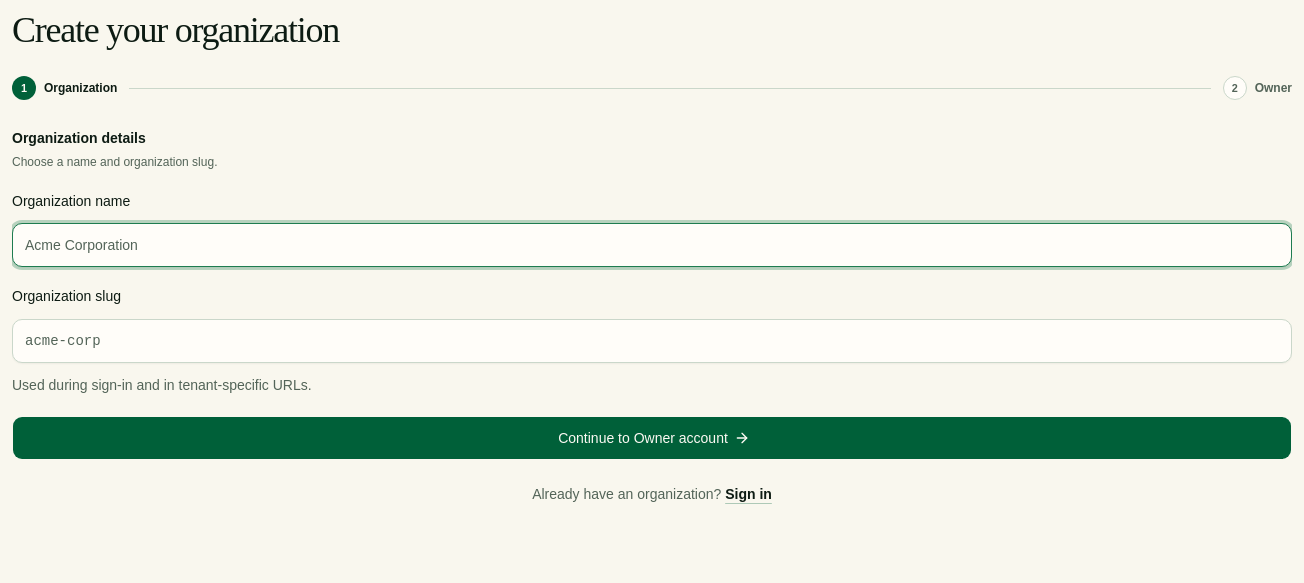
Scenario: RegisterPage › shows email verification instructions after registration
Type "Alpha Labs" into the field labelled "Organization name" at [652, 245], box [12,223,1292,267]
Type "alpha-labs" into the field labelled "Organization slug" at [652, 340], box [12,318,1292,362]
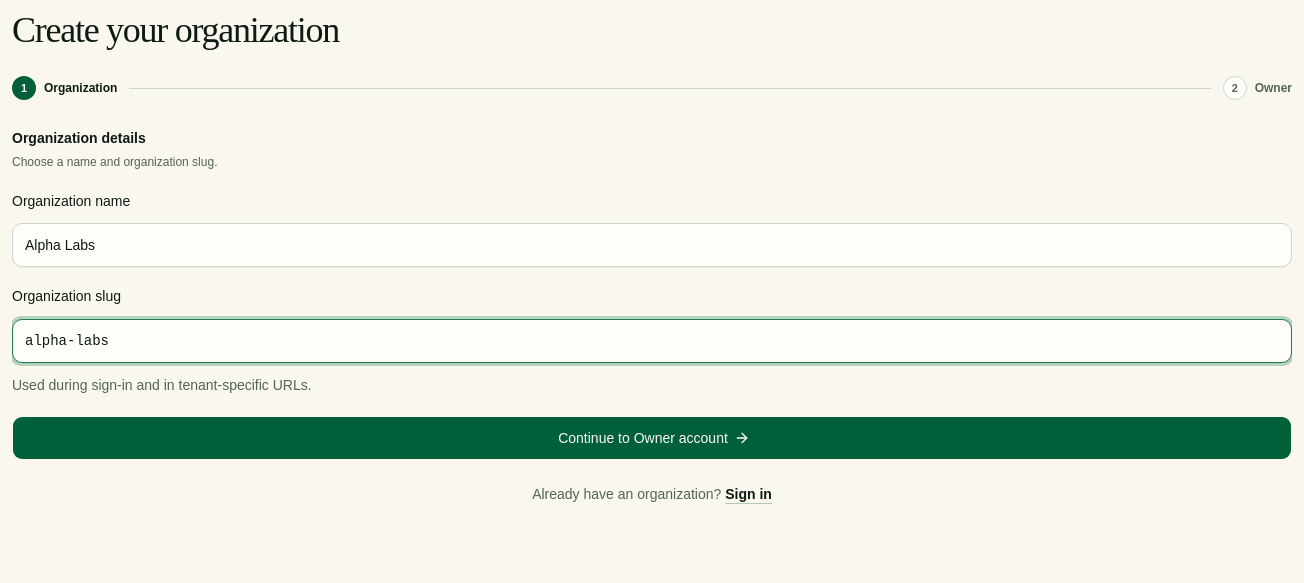
Click the button "Continue to Owner account" at [652, 438], box [12,416,1292,460]
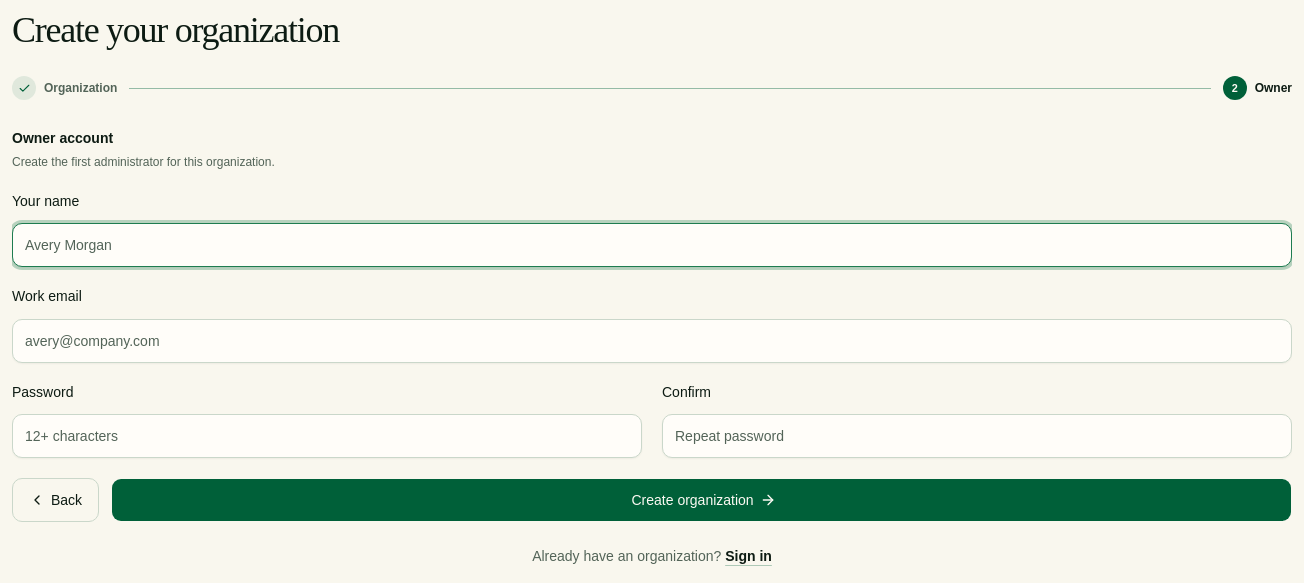
Type "Alpha Owner" into the field labelled "Your name" at [652, 245], box [12,223,1292,267]
Type "owner@alpha.test" into the field labelled "Work email" at [652, 340], box [12,318,1292,362]
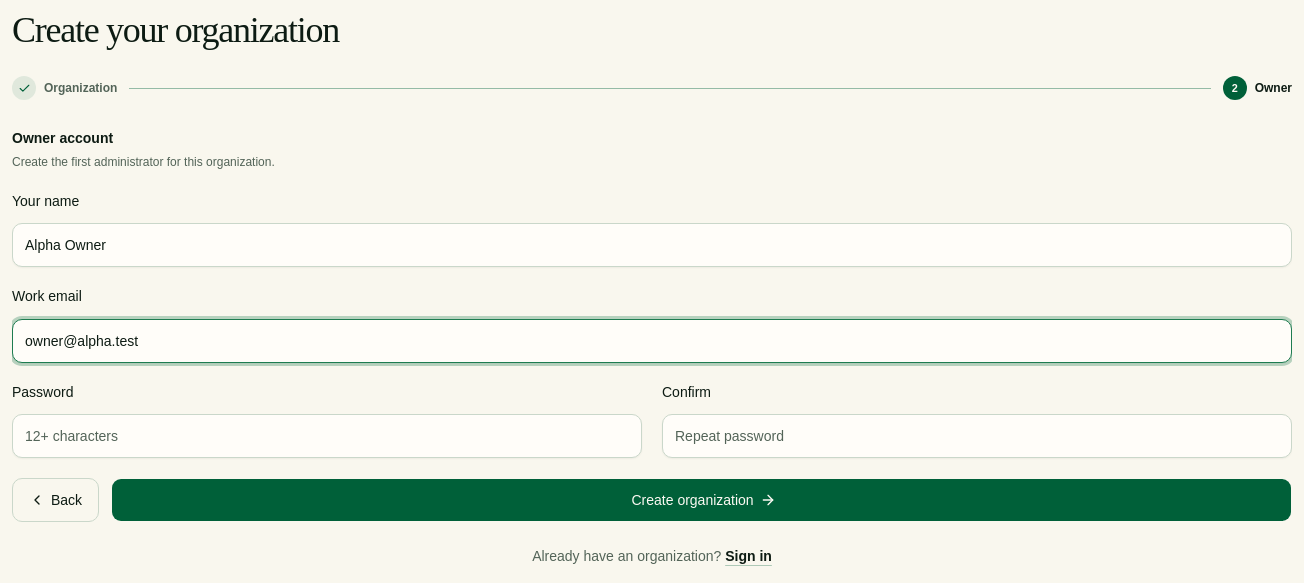
Type "correct horse battery staple" into the password field labelled "Password" at [327, 436], box [12,414,642,458]
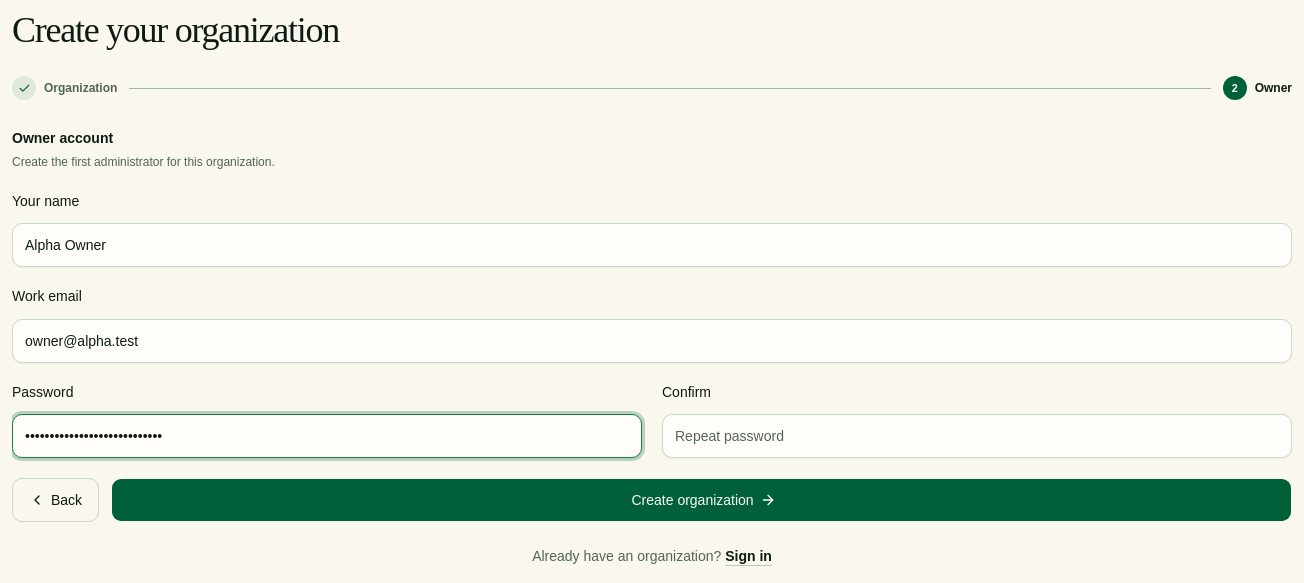
Type "correct horse battery staple" into the password field labelled "Confirm" at [977, 436], box [662,414,1292,458]
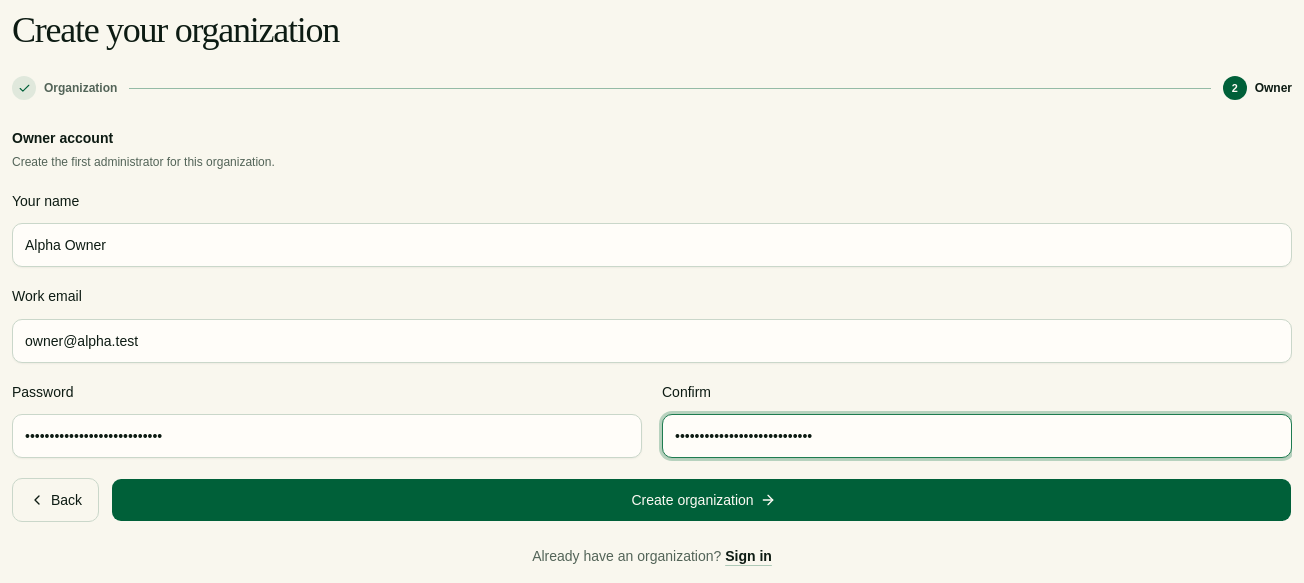
Click the button "Create organization" at [702, 500], box [111,478,1292,522]
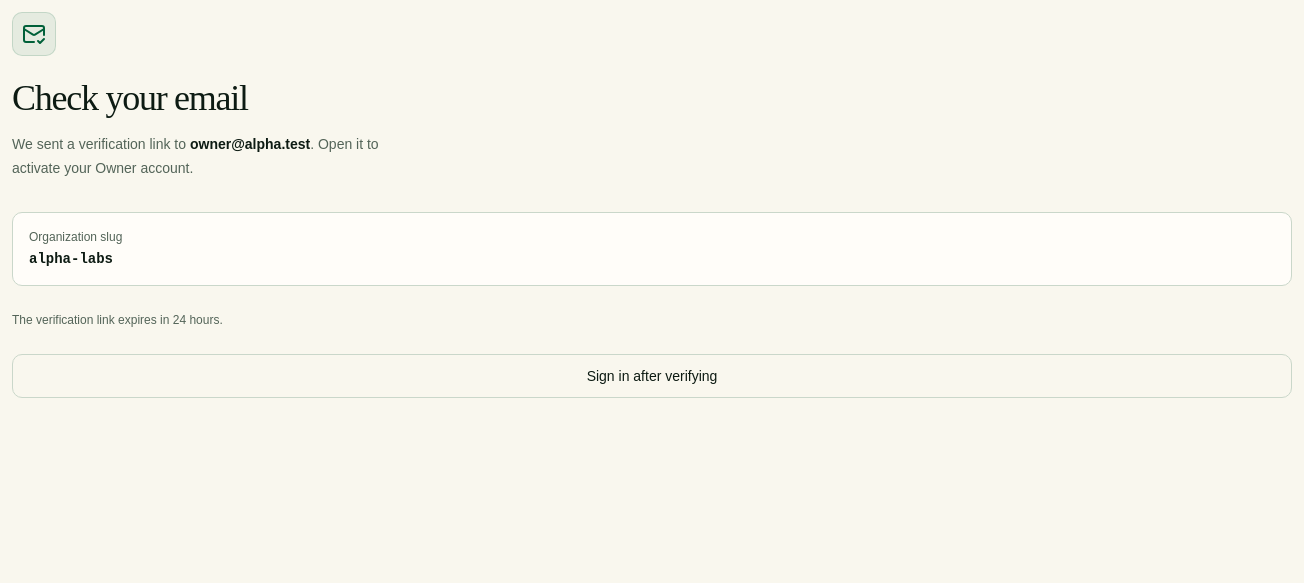
Result: the heading "Check your email" is shown at [12,78,248,118]
Result: the text "owner@alpha.test" is shown at [190,136,310,152]
Result: the text "alpha-labs" is shown at [29,251,113,267]
